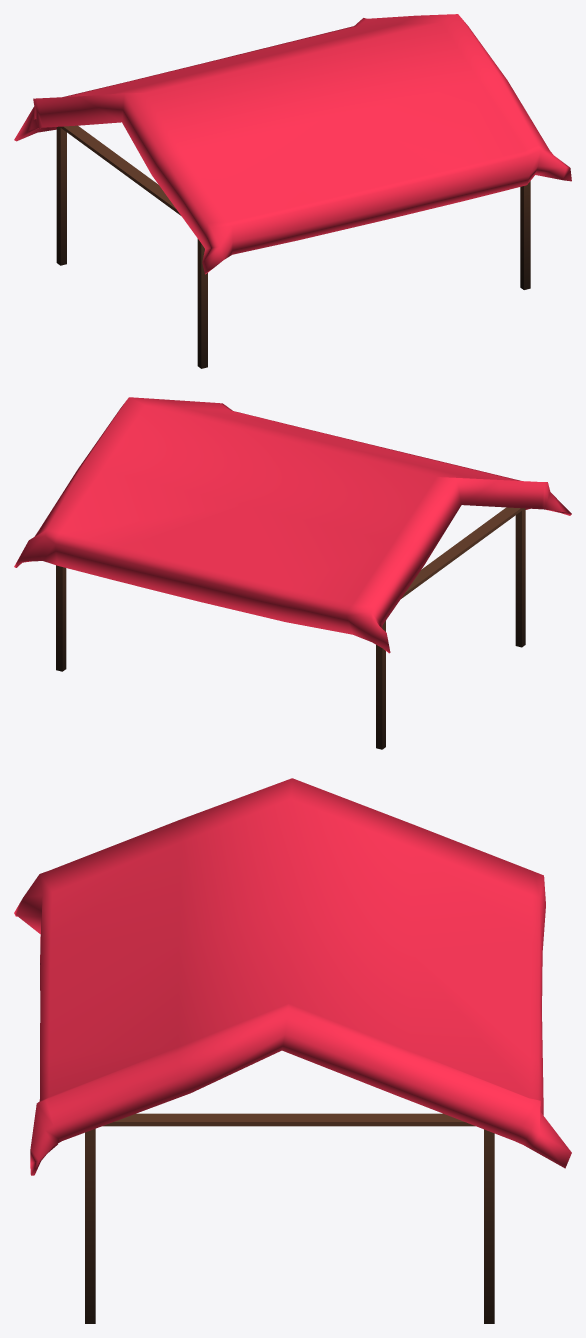
Rendered from StandPasar1.fbx.
3 renders of one model, top to bottom at view 1: azimuth 30°, elevation 25°; view 2: azimuth 150°, elevation 25°; view 3: azimuth 270°, elevation 25°, orthographic. The views are drawn at different scales.
Parts seen in each view (by area): view 1: Terpal_LOD0; view 2: Terpal_LOD0; view 3: Terpal_LOD0.
Boxes of the visible parts, box(x1,y1,x2,y2) form: Terpal_LOD0: box(14, 14, 571, 368); Terpal_LOD0: box(14, 397, 571, 749); Terpal_LOD0: box(14, 778, 571, 1323).
Size of what is drawn, in the model's own units: 869 by 489 by 783.
